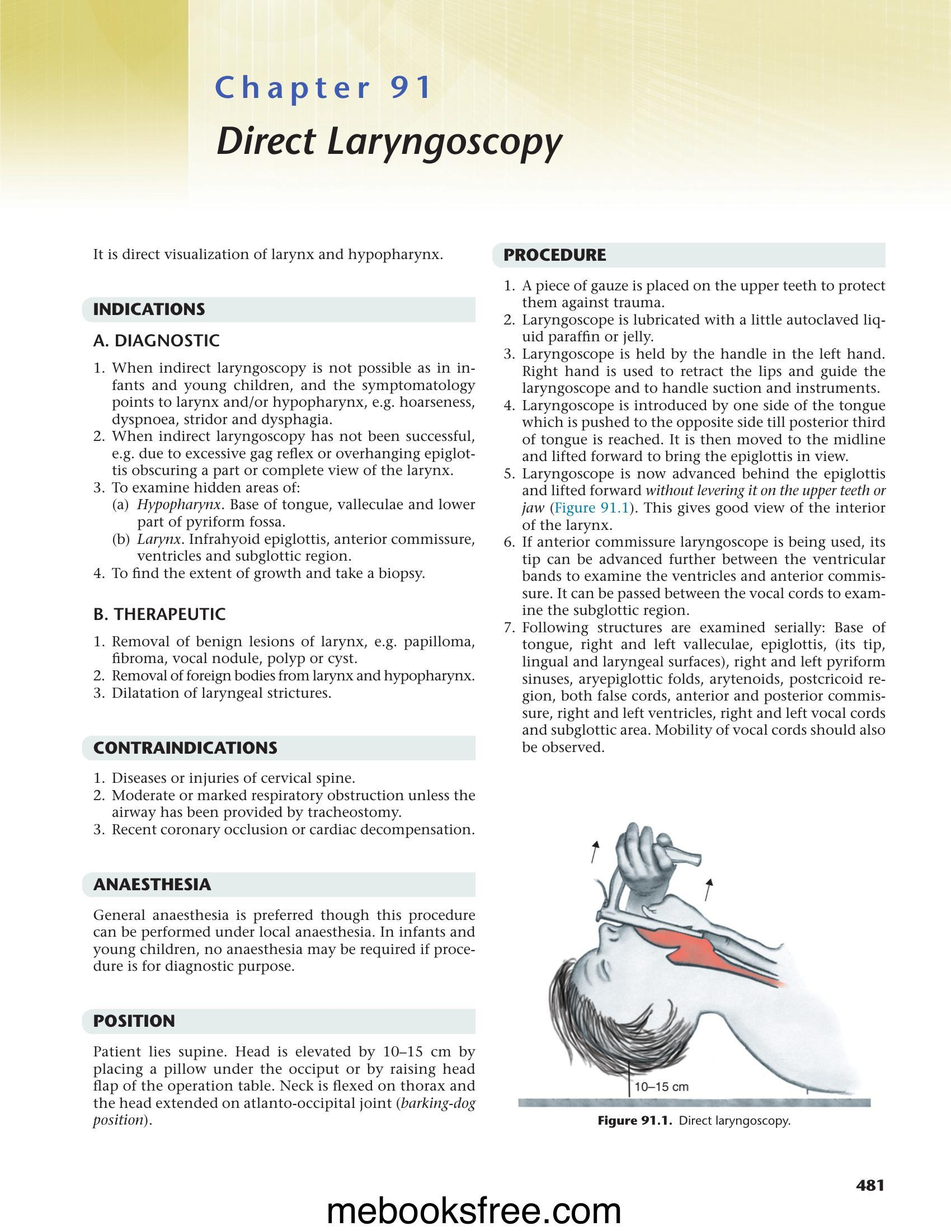caption: (598, 1114, 791, 1129)
chapter-heading: (215, 122, 565, 166)
image: (500, 805, 890, 1112)
list: (503, 278, 887, 754), (92, 360, 477, 583), (92, 771, 476, 839), (110, 495, 475, 566), (92, 634, 475, 701)
section-heading: (93, 740, 278, 755), (91, 876, 212, 891), (92, 301, 205, 316), (503, 247, 607, 262), (92, 1013, 175, 1028)
sub-section-heading: (93, 606, 227, 622), (91, 332, 220, 348)
text: (91, 1045, 478, 1129), (92, 908, 476, 976), (92, 247, 444, 264)
